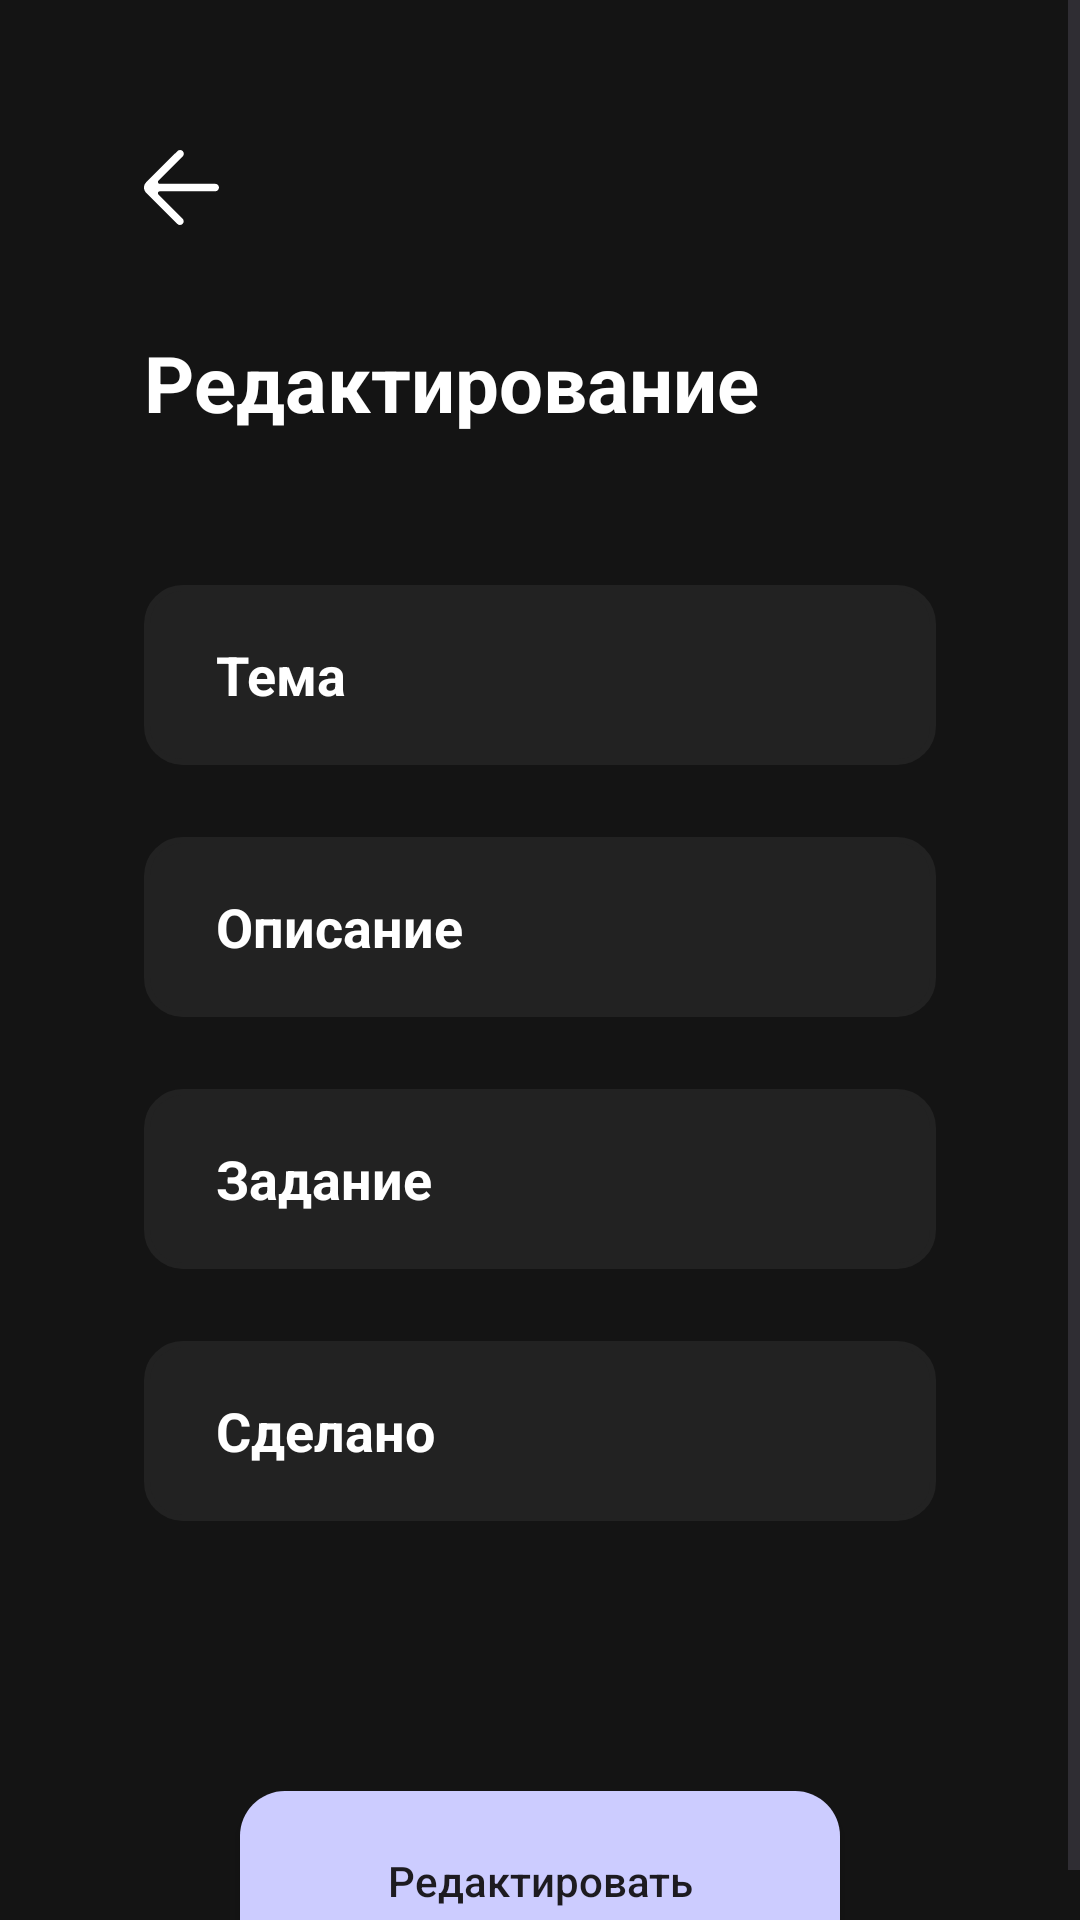

Named icons in this screenshot (1080 × 1920) and their bounding boxes, {"left": x1, "top": y1, "right": x2, "bottom": y2}:
arrow left: {"left": 144, "top": 150, "right": 219, "bottom": 225}
